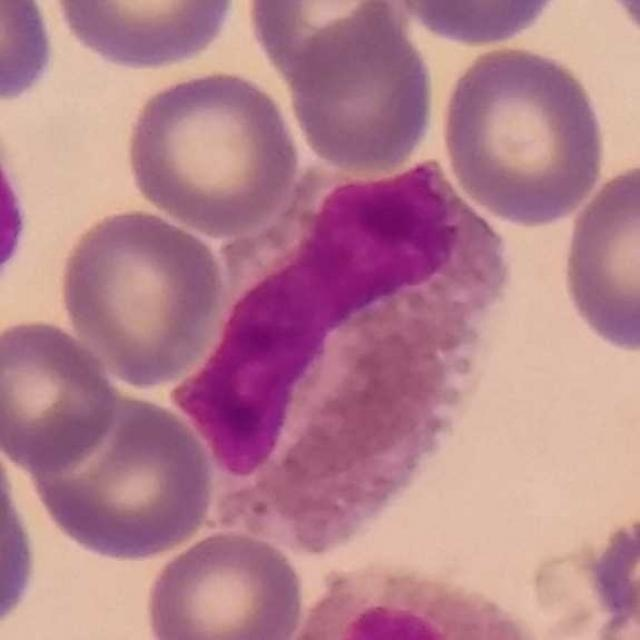Eosinophil: (190, 158, 514, 542), (280, 564, 564, 640), (0, 166, 31, 287)
RBC: (20, 385, 218, 563), (435, 40, 611, 228), (54, 204, 228, 388), (120, 66, 304, 238), (282, 6, 438, 177), (140, 526, 308, 640), (0, 314, 120, 472), (555, 156, 640, 358), (242, 0, 406, 92), (45, 0, 242, 72), (385, 0, 570, 48), (0, 428, 42, 636), (582, 501, 640, 638), (0, 0, 58, 106), (595, 0, 640, 51)
